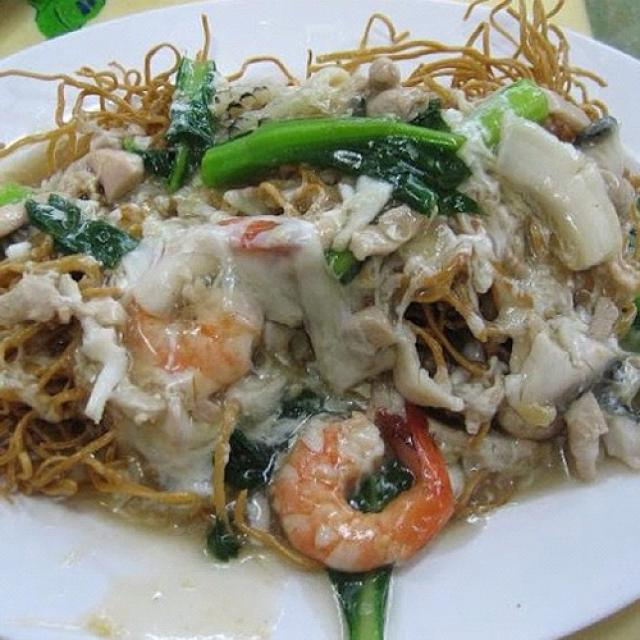面条主食: (4, 10, 635, 589)
